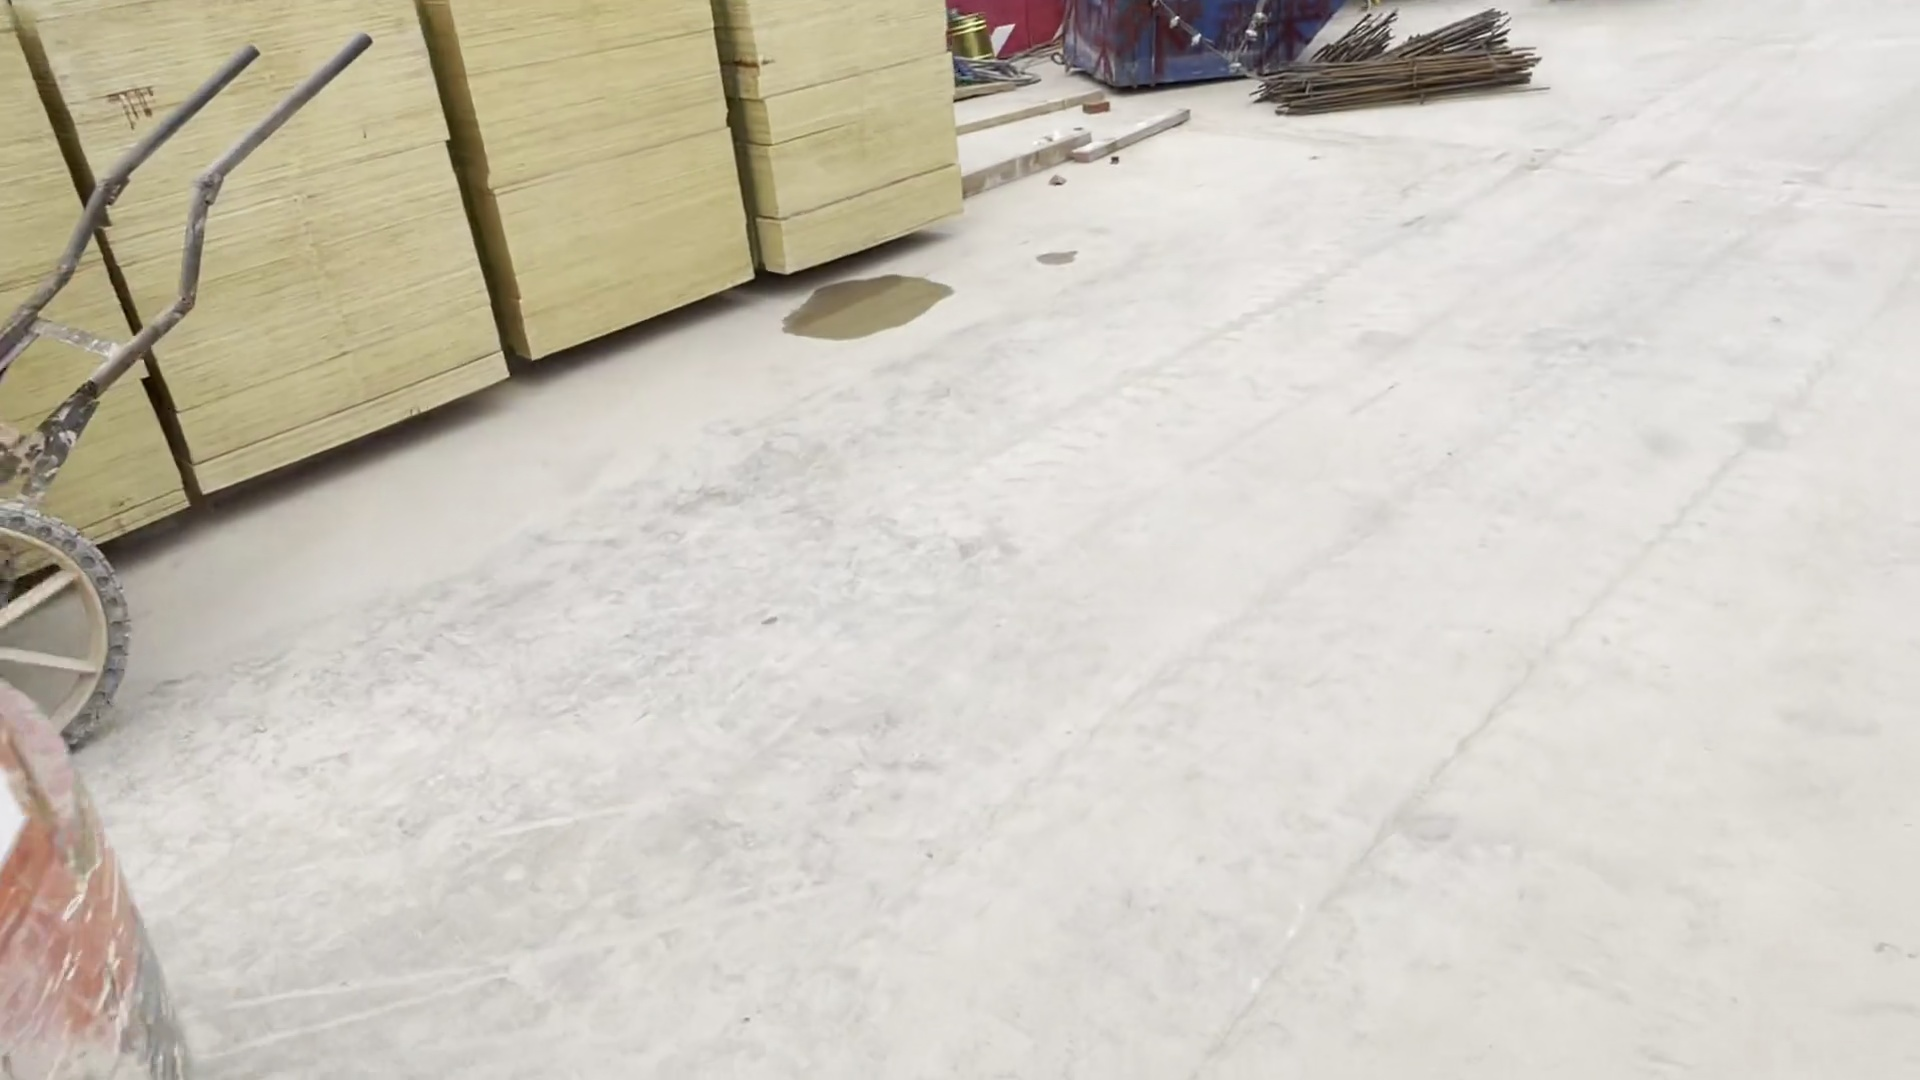hopper: (1042, 1, 1323, 91)
